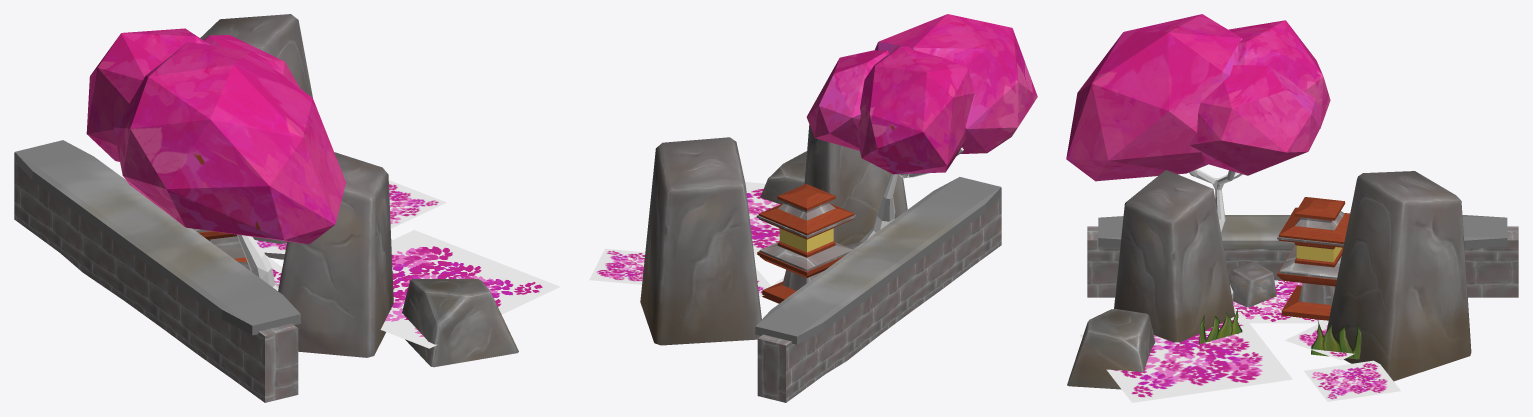
File: Scene_Decoratie.fbx
3 renders of one model, left to right at view 1: azimuth 30°, elevation 25°; view 2: azimuth 150°, elevation 25°; view 3: azimuth 270°, elevation 25°, orthographic. The views are drawn at different scales.
Visible parts, largest first — view 1: Icosphere.001, Cube.009, Cube.008, Cube.005, Cube.006, Plane.014, Icosphere.006, Cube.004, Plane.013, Icosphere, Cube.013, Cube.014; view 2: Cube.004, Cube.009, Cube.008, Icosphere.006, Icosphere.001, Cube.014, Cube.005, Icosphere, Plane.013, Plane.014, Cube.006, Cube.013; view 3: Cube.004, Icosphere.001, Cube.005, Icosphere, Plane.014, Cube.014, Cube.008, Cube.006, Cube.009, Icosphere.006, Plane.013, Cube.011 (+5 smaller).
Part boxes in pixels (<box>): Icosphere.001: <box>113,42,346,244</box>; Cube.009: <box>14,140,300,335</box>; Cube.008: <box>14,153,298,402</box>; Cube.005: <box>278,152,393,357</box>; Cube.006: <box>402,279,518,367</box>; Plane.014: <box>380,230,560,348</box>; Icosphere.006: <box>86,28,209,161</box>; Cube.004: <box>200,14,312,259</box>; Plane.013: <box>388,180,446,228</box>; Icosphere: <box>203,35,299,87</box>; Cube.013: <box>237,234,278,290</box>; Cube.014: <box>193,228,247,262</box>; Cube.004: <box>640,137,761,345</box>; Cube.009: <box>755,177,1001,344</box>; Cube.008: <box>757,188,1001,402</box>; Icosphere.006: <box>856,46,974,174</box>; Icosphere.001: <box>875,14,1037,153</box>; Cube.014: <box>756,184,856,303</box>; Cube.005: <box>804,125,907,245</box>; Icosphere: <box>806,50,888,150</box>; Plane.013: <box>589,248,645,284</box>; Plane.014: <box>745,182,780,254</box>; Cube.006: <box>760,151,806,204</box>; Cube.013: <box>859,147,963,242</box>; Cube.004: <box>1326,171,1471,381</box>; Icosphere.001: <box>1066,14,1242,181</box>; Cube.005: <box>1114,170,1234,342</box>; Icosphere: <box>1189,65,1320,175</box>; Plane.014: <box>1080,311,1292,402</box>; Cube.014: <box>1277,197,1349,320</box>; Cube.008: <box>1087,226,1518,297</box>; Cube.006: <box>1067,309,1155,389</box>; Cube.009: <box>1098,215,1507,248</box>; Icosphere.006: <box>1228,20,1330,128</box>; Plane.013: <box>1304,360,1400,401</box>; Cube.011: <box>1228,261,1276,307</box>.
Size of the model in its own units: 721 by 516 by 816.
10 materials, 8 textured.
